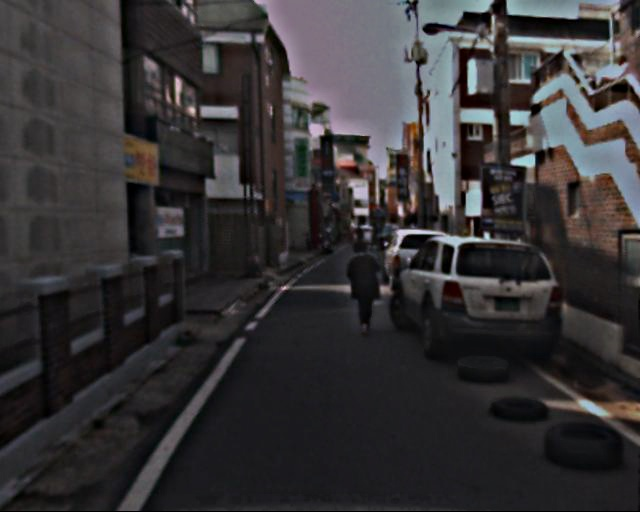person: (345, 240, 385, 337)
